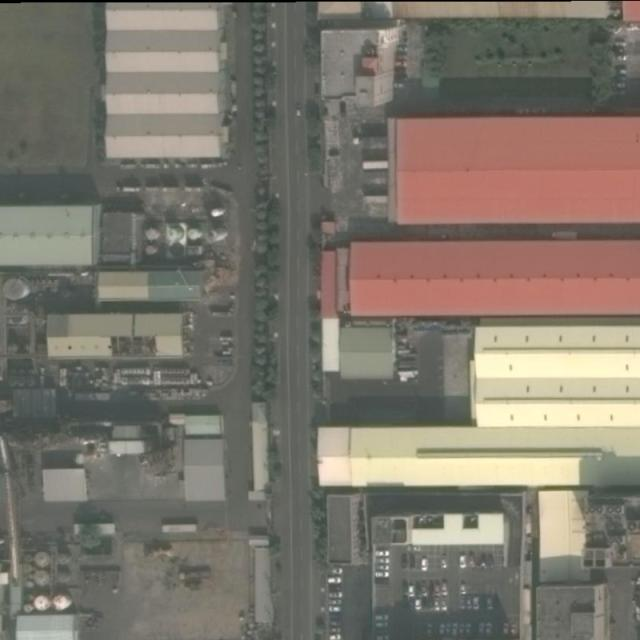vehicle: (441, 580, 450, 596), (326, 591, 343, 599), (327, 574, 342, 583), (327, 566, 343, 574), (419, 556, 428, 570), (328, 598, 343, 606), (458, 553, 466, 568), (434, 582, 442, 597), (472, 595, 480, 610), (426, 623, 434, 638), (328, 618, 342, 626), (486, 596, 494, 610), (328, 633, 343, 640), (375, 549, 390, 556), (374, 571, 389, 578), (485, 622, 492, 637), (509, 622, 516, 637), (376, 557, 390, 564), (374, 614, 388, 621), (440, 555, 447, 569), (478, 622, 485, 636), (458, 623, 466, 635), (329, 605, 342, 612), (433, 597, 440, 610), (459, 581, 466, 594), (441, 598, 448, 611), (408, 583, 414, 598), (504, 622, 510, 637), (414, 599, 422, 610), (330, 626, 342, 633), (375, 621, 389, 627), (422, 582, 428, 596), (460, 596, 467, 608), (466, 596, 472, 610), (452, 622, 458, 636), (466, 623, 473, 635), (376, 564, 389, 570), (439, 623, 445, 635), (445, 622, 450, 636), (392, 83, 406, 88)
